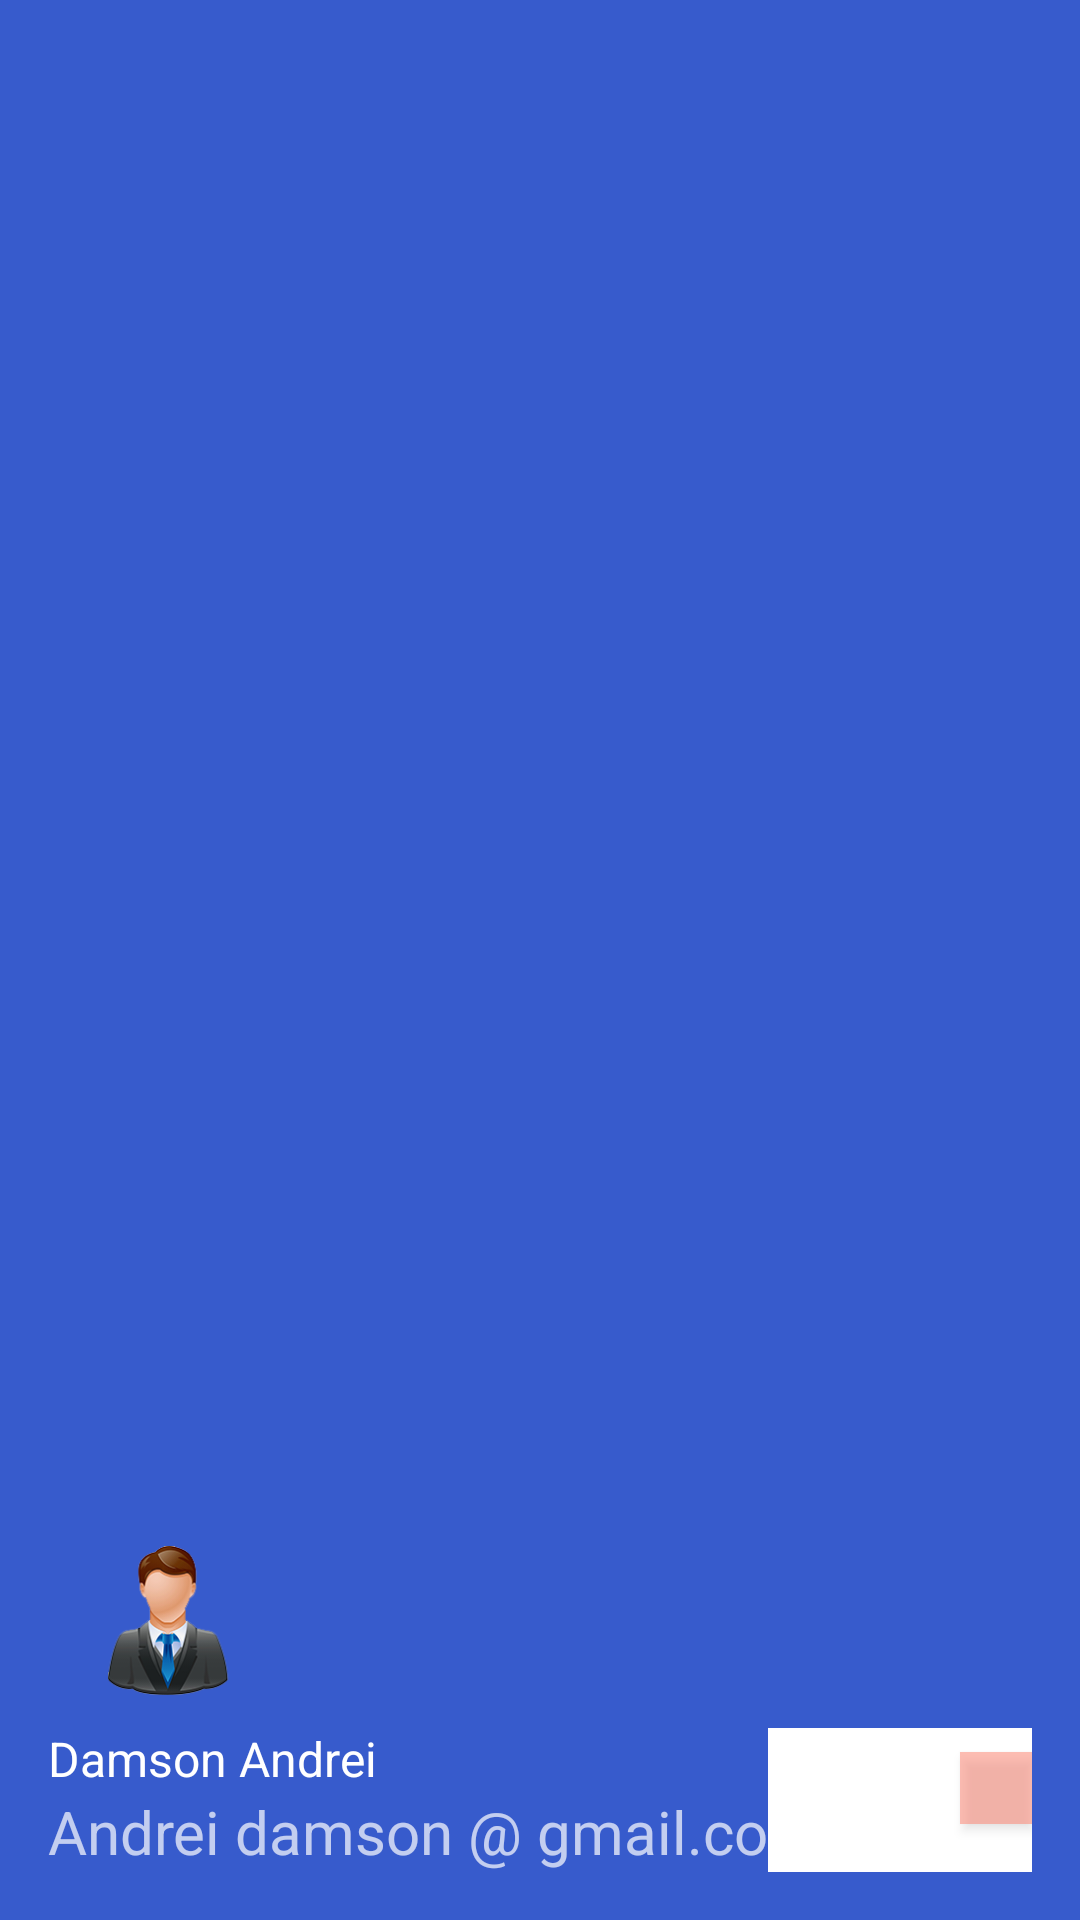

Where to tap for icons on this 1080px x 1920px app screen, as (x=x, y=y):
manavatar: (x=168, y=1620)
